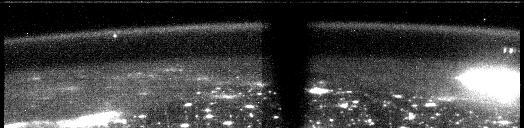positive: (500, 45, 517, 57)
